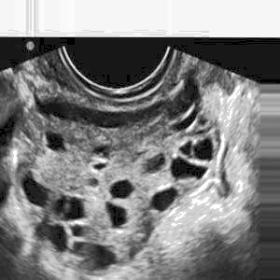-: (31, 220, 70, 252), (74, 239, 114, 264), (58, 198, 90, 222), (27, 172, 47, 209), (177, 160, 204, 181), (105, 202, 126, 227), (112, 178, 134, 199), (146, 188, 180, 201), (145, 156, 169, 174), (196, 136, 214, 160), (46, 133, 68, 152), (92, 141, 116, 158), (92, 158, 115, 173), (71, 227, 83, 237), (182, 141, 190, 155)
